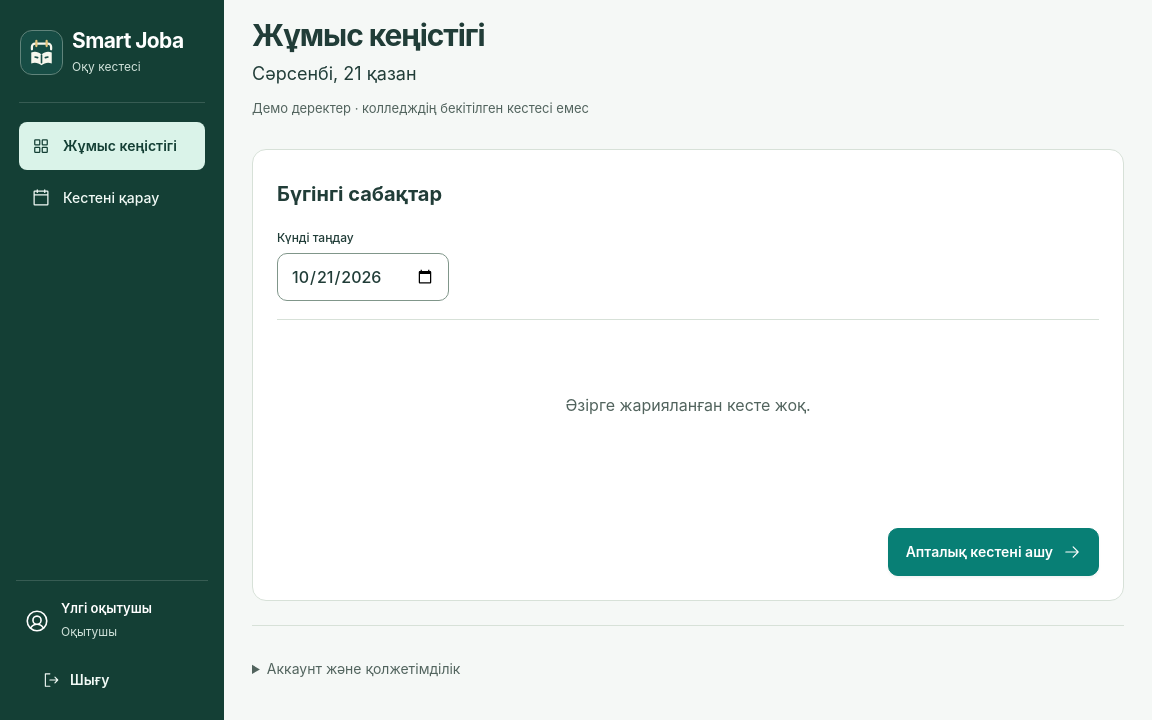
Test: REQ-006: server-provided workspace and session › restores a teacher session and shows only the server permissions
The image size is (1152, 720).
(page scrolled)
Expected: the text "Оқытушы" is shown, [61, 624, 117, 639]
Click the heading "Аккаунт және қолжетімділік": coordinates (364, 668) [267, 660, 460, 677]
(page scrolled)
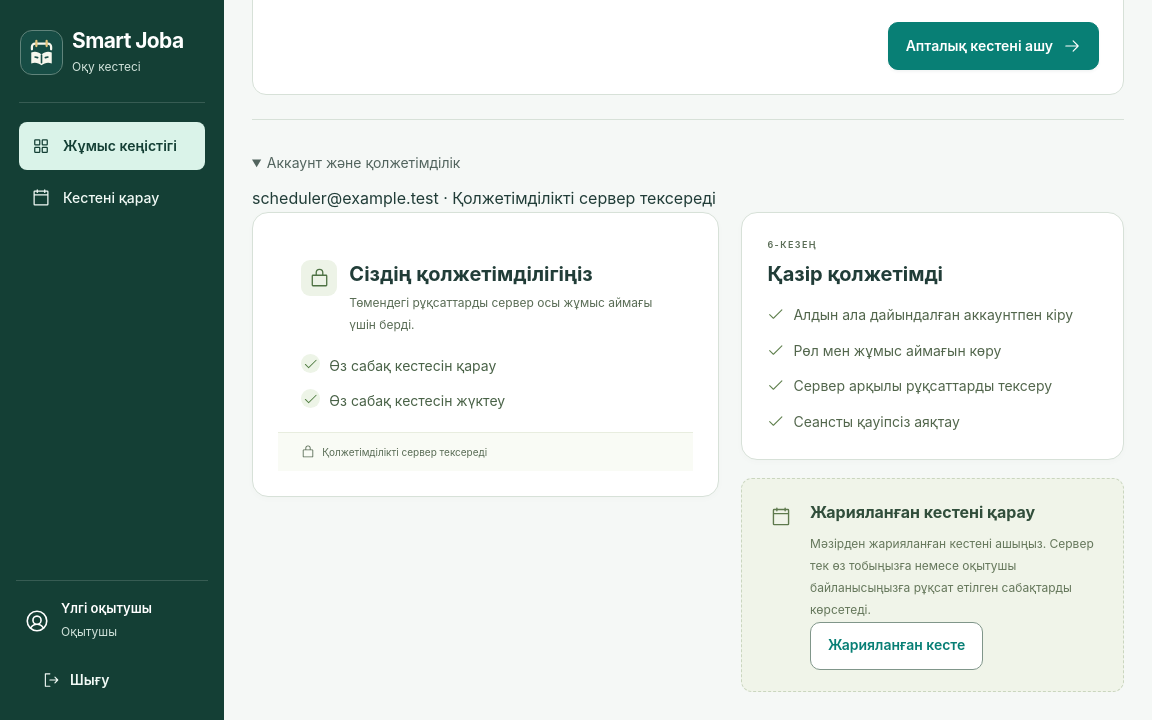
Now the text "Өз сабақ кестесін қарау" is shown, box [329, 354, 496, 377]
Now the heading "Жарияланған кестені қарау" is shown, box [810, 502, 1035, 522]
